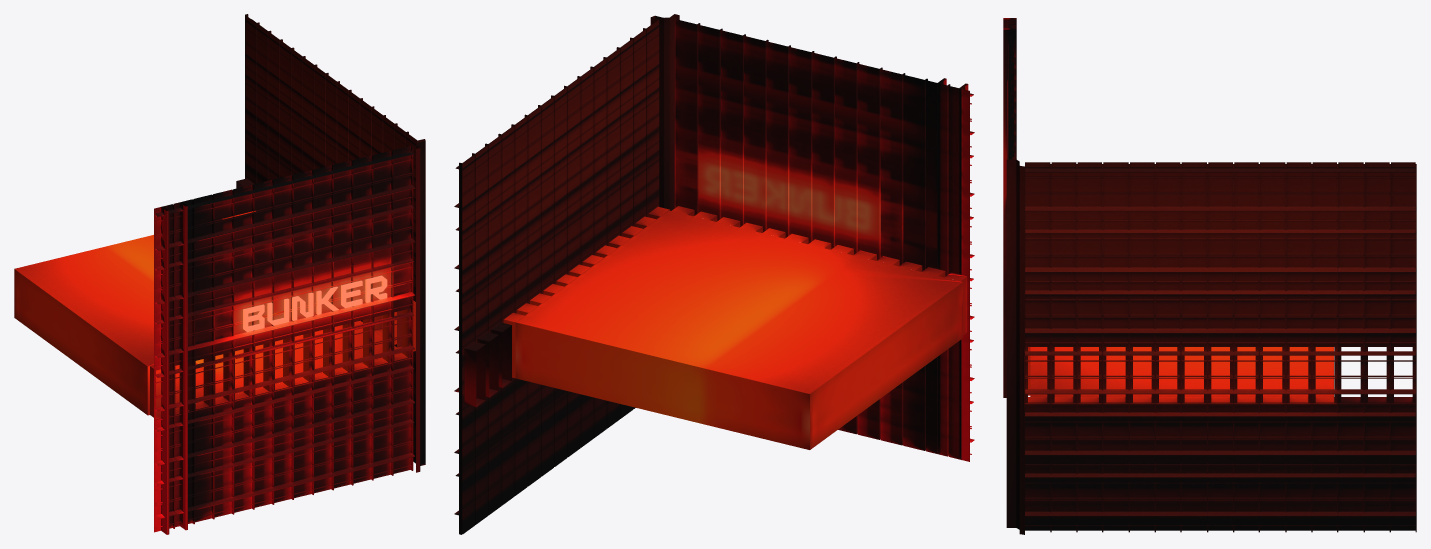
The model's file is bunker.glb.
3 renders of one model, left to right at view 1: azimuth 30°, elevation 25°; view 2: azimuth 150°, elevation 25°; view 3: azimuth 270°, elevation 25°, orthographic. The views are drawn at different scales.
Visible parts, largest first — view 1: EDF, IN; view 2: EDF, IN; view 3: EDF, IN.
Part boxes in pixels (bbox=[...]): EDF: bbox=[150, 14, 425, 534]; IN: bbox=[14, 235, 401, 415]; EDF: bbox=[454, 14, 974, 534]; IN: bbox=[515, 210, 962, 449]; EDF: bbox=[1003, 18, 1416, 534]; IN: bbox=[1030, 347, 1333, 396].
Bounding box in the file's own units: 13.94 × 15.69 × 15.97.
3 materials, 2 textured.
